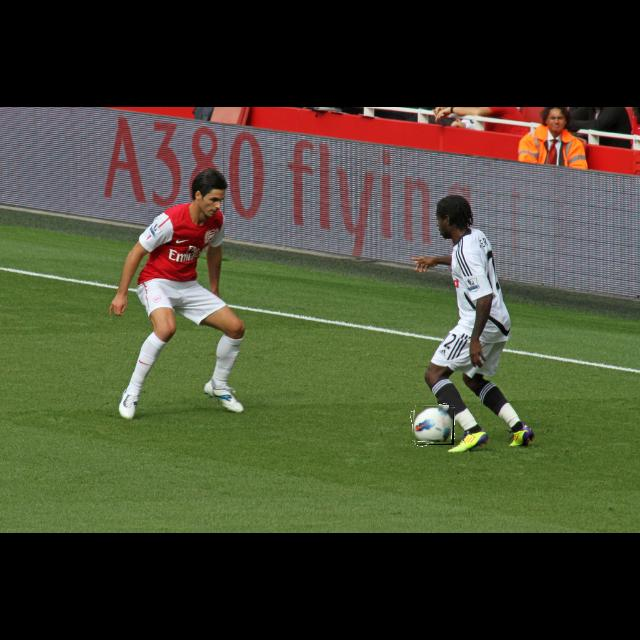Football: (412, 405, 454, 445), (414, 406, 454, 442)
